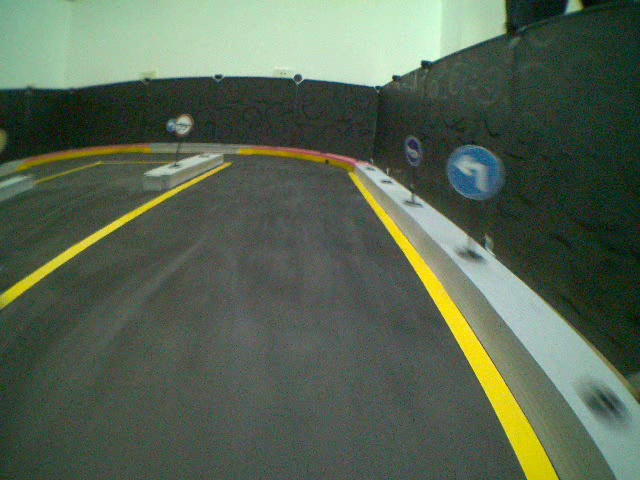Check: (177, 111, 195, 136)
horn: (400, 134, 427, 172)
turn: (447, 147, 516, 204)
